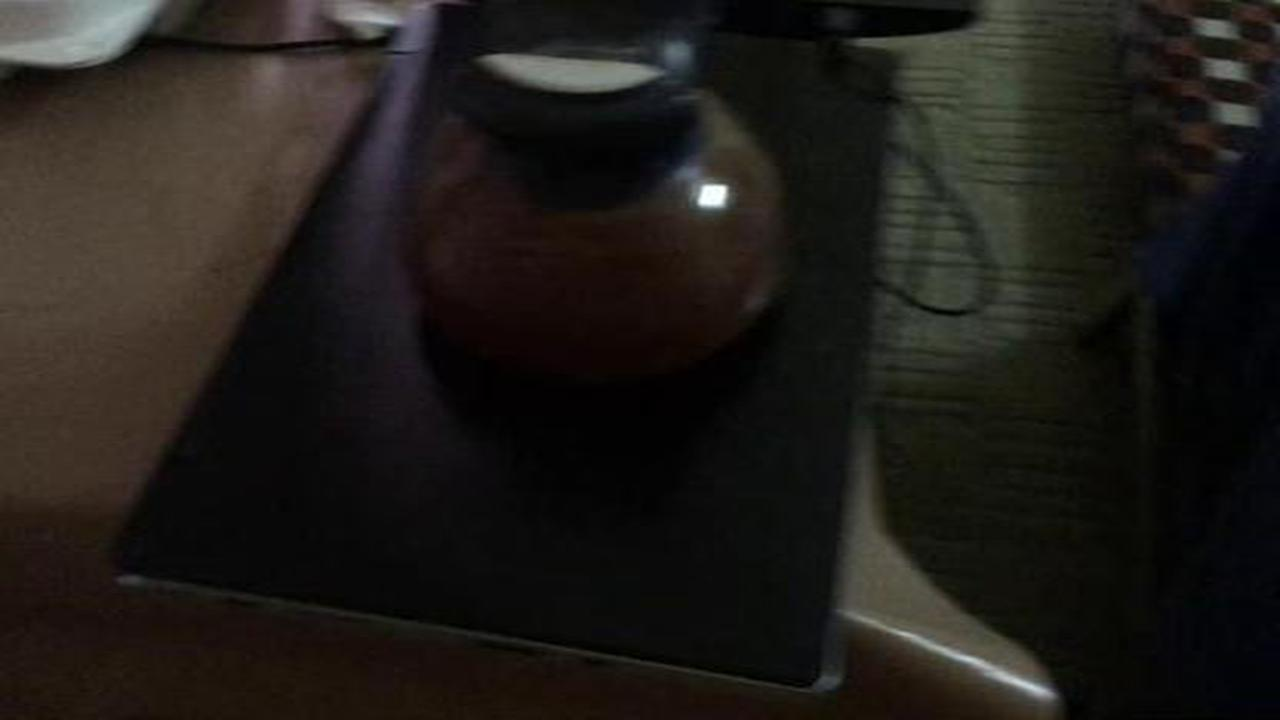insulator_pin: (357, 13, 813, 407)
